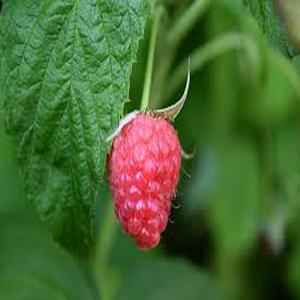raspb: (99, 105, 195, 252)
